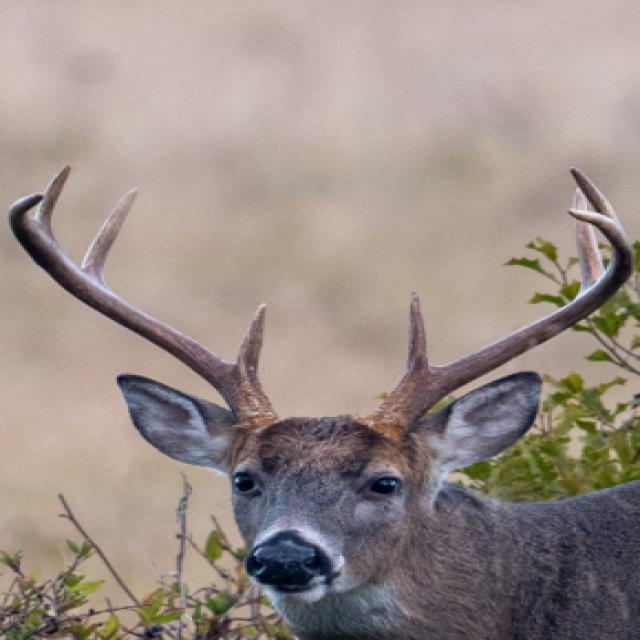L-F: (357, 208, 636, 440)
L-G1: (398, 289, 439, 384)
R-F: (6, 191, 283, 427)
R-G1: (234, 301, 268, 381)
R-G2: (79, 187, 140, 288)
